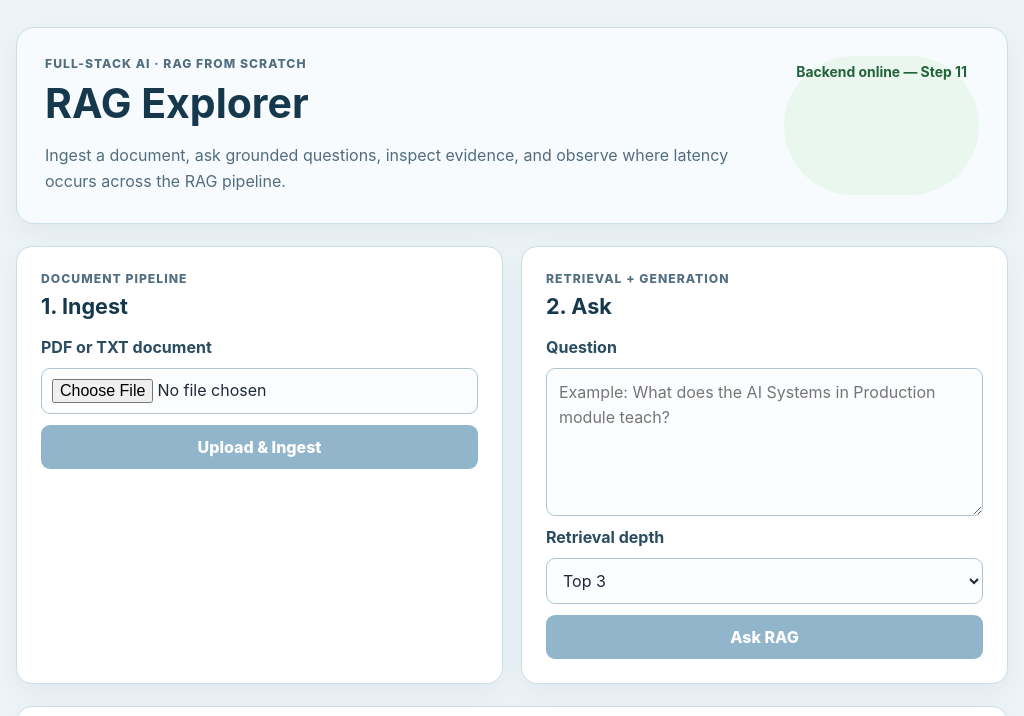
Step 11 observability and UX › renders timing diagnostics
Check: the text "Backend online — Step 11" is shown, box [784,56,979,195]
Type "What is RAG?" into the text box labelled "Question".
click(764, 442); type("What is RAG?")  # box [546,368,983,516]
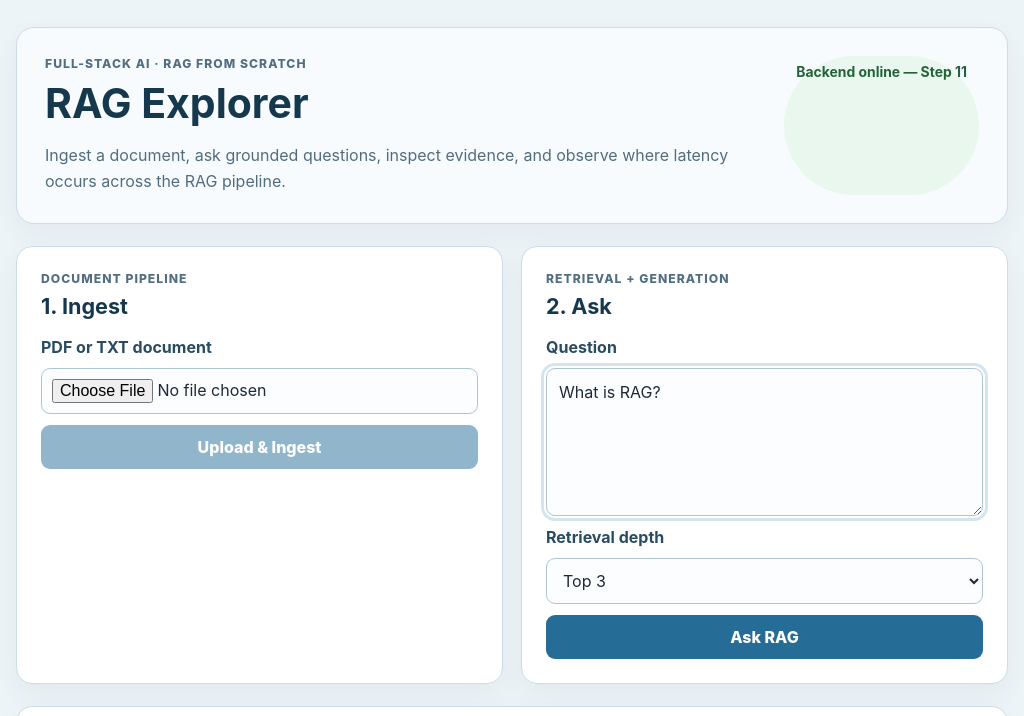
Click the button "Ask RAG".
click(764, 637)  # box [546,615,983,659]
(page scrolled)
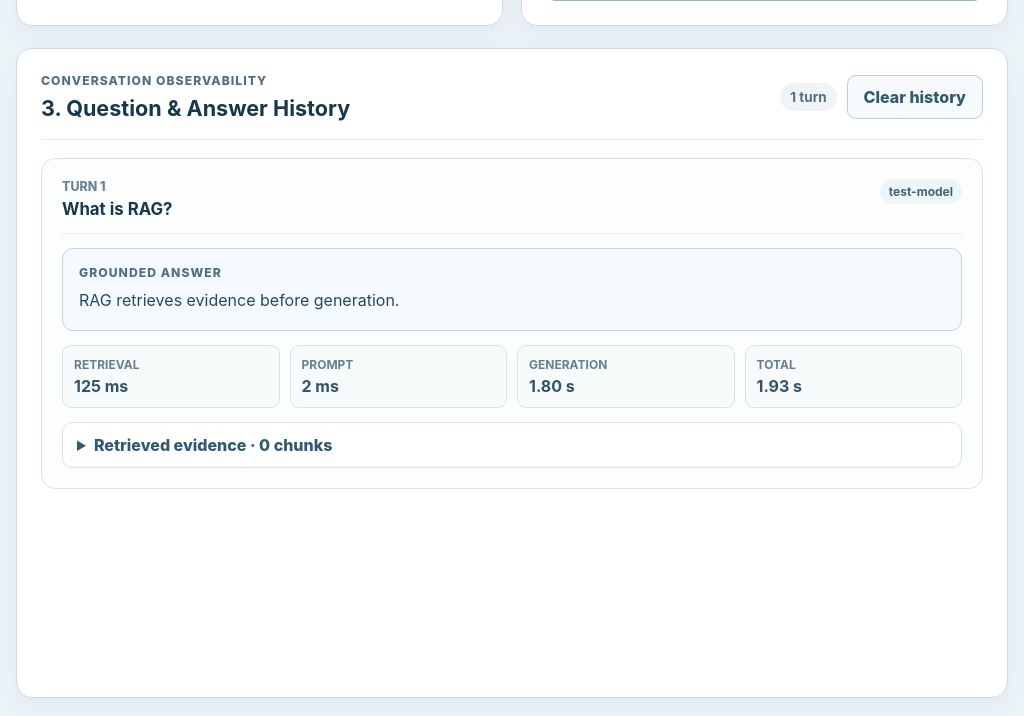
Check: the text "RAG retrieves evidence before generation." is shown, box [79,290,400,310]
Check: the text "125 ms" is shown, box [74,376,128,396]
Check: the text "1.80 s" is shown, box [529,376,575,396]
